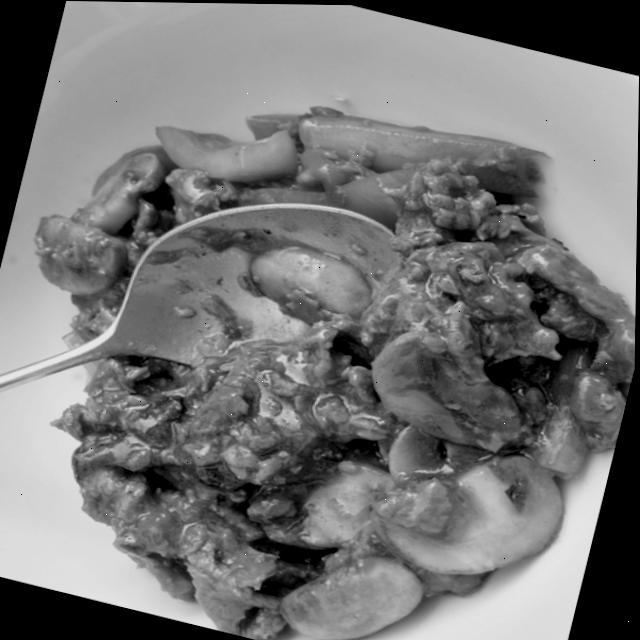牛肉菜式: (0, 26, 640, 640)
